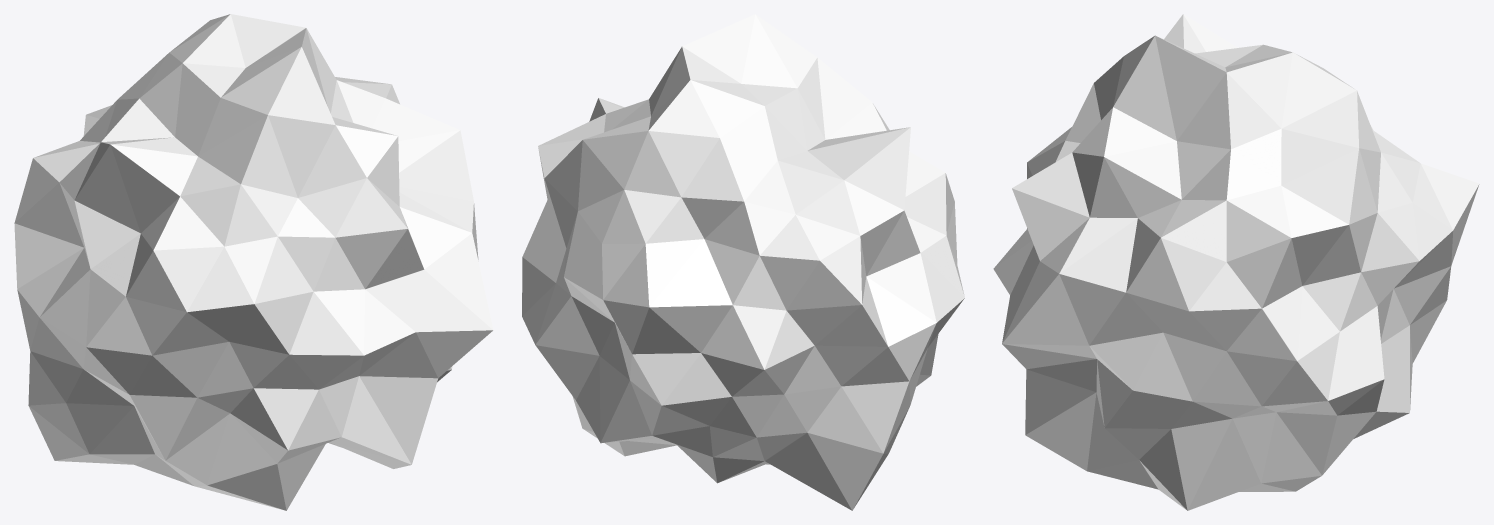
File: Paper13.fbx
3 renders of one model, left to right at view 1: azimuth 30°, elevation 25°; view 2: azimuth 150°, elevation 25°; view 3: azimuth 270°, elevation 25°, orthographic. The views are drawn at different scales.
Parts seen in each view (by area): view 1: Paper13; view 2: Paper13; view 3: Paper13.
Boxes of the visible parts, <box> form: Paper13: <box>14,14,493,510</box>; Paper13: <box>522,14,964,510</box>; Paper13: <box>993,14,1479,510</box>.
Size of the model in its own units: 0.1212 by 0.128 by 0.1262.
